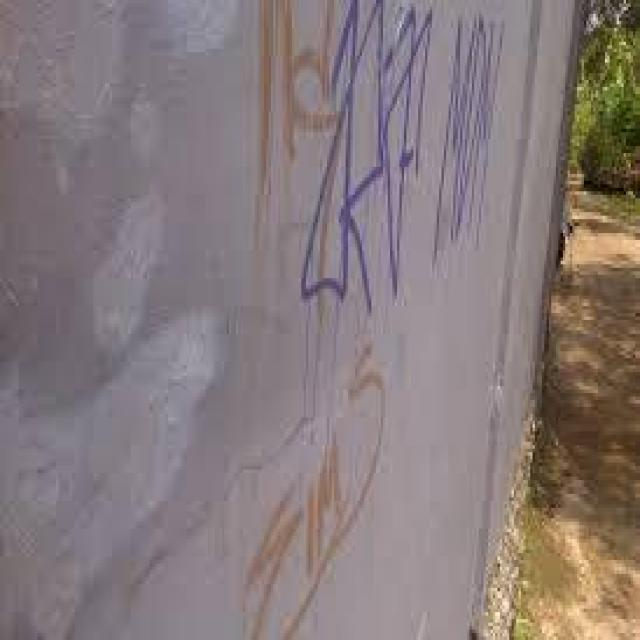nonspitting: (299, 0, 502, 310), (242, 338, 388, 638), (260, 0, 334, 188)
